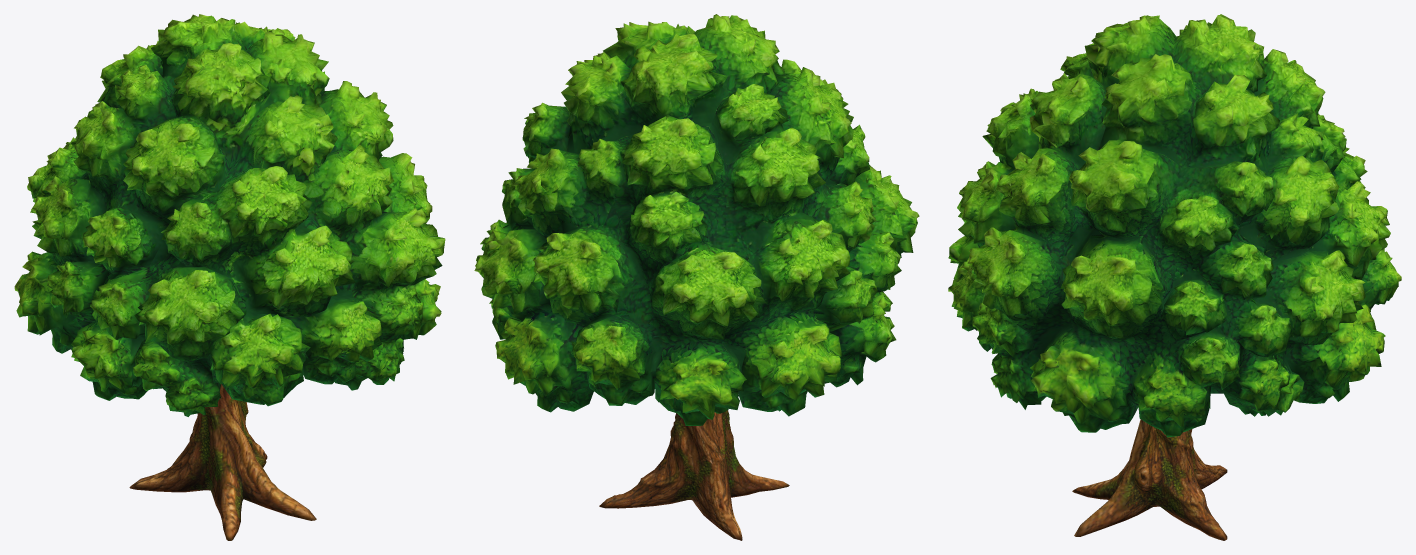
The model's file is densetree+3d+model (1).glb.
The picture shows the model from 3 angles, left to right: view 1: azimuth 30°, elevation 25°; view 2: azimuth 150°, elevation 25°; view 3: azimuth 270°, elevation 25°; orthographic projection. The views are drawn at different scales.
Visible parts, largest first — view 1: tripo_node_aaaf4278-d2bc-4264-983e-98b001eb6ef2; view 2: tripo_node_aaaf4278-d2bc-4264-983e-98b001eb6ef2; view 3: tripo_node_aaaf4278-d2bc-4264-983e-98b001eb6ef2.
Boxes of the visible parts, x1,y1,x2,y2 form: tripo_node_aaaf4278-d2bc-4264-983e-98b001eb6ef2: [14, 14, 445, 540]; tripo_node_aaaf4278-d2bc-4264-983e-98b001eb6ef2: [474, 14, 919, 540]; tripo_node_aaaf4278-d2bc-4264-983e-98b001eb6ef2: [948, 14, 1401, 540].
Bounding box in the file's own units: 0.791 × 0.998 × 0.8379.
1 material, 1 textured.
